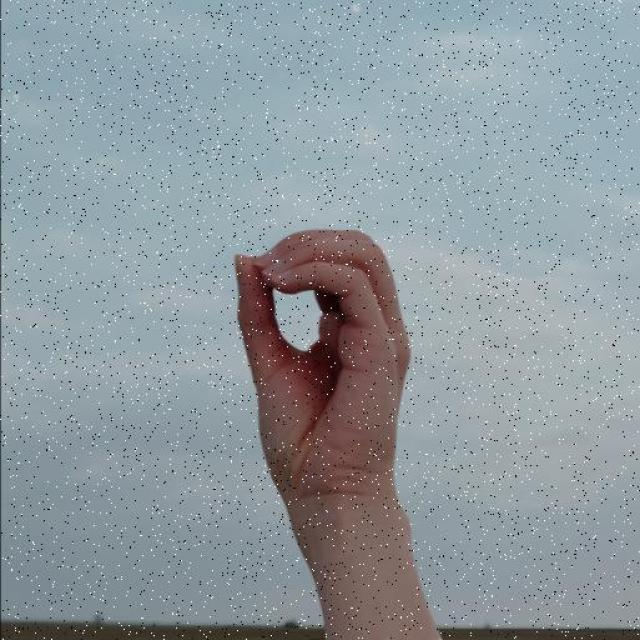O: (231, 227, 415, 495)
